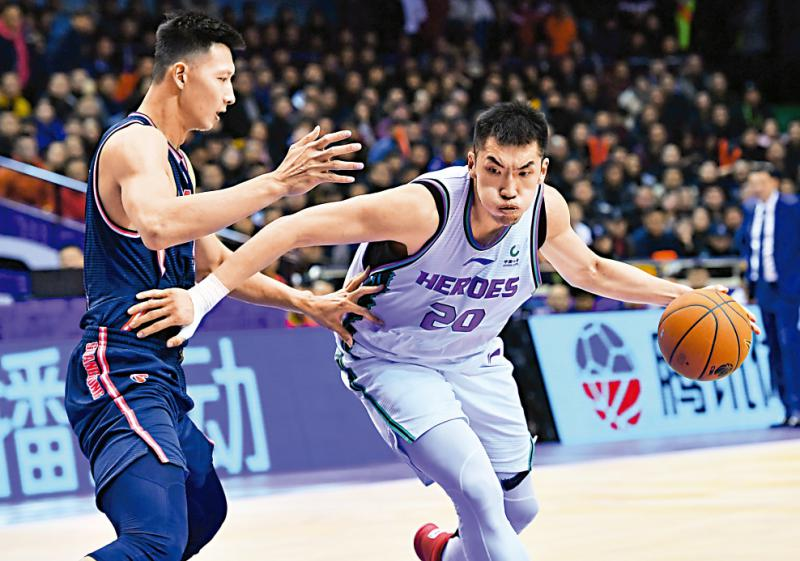ball: (658, 288, 753, 381)
